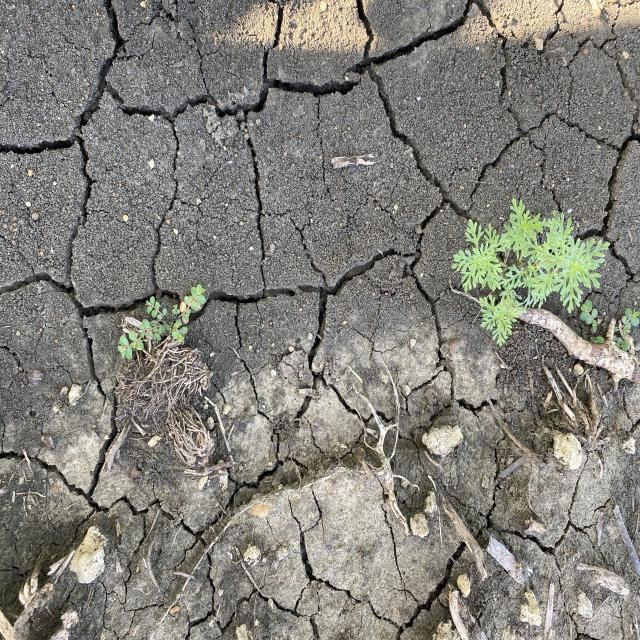Ragweed: (450, 195, 611, 347)
SpottedSpurge: (116, 282, 207, 361), (577, 297, 639, 353)
